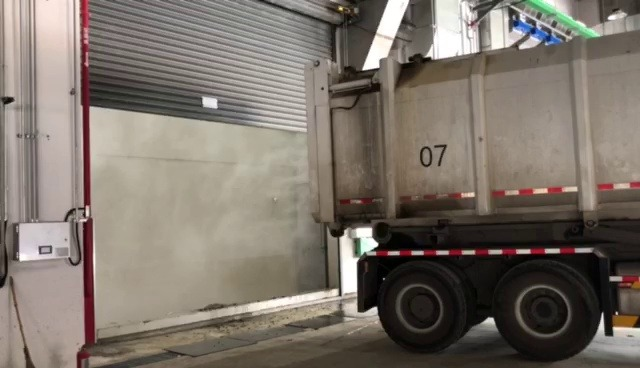dust: (94, 149, 303, 305)
truck: (297, 23, 640, 365)
